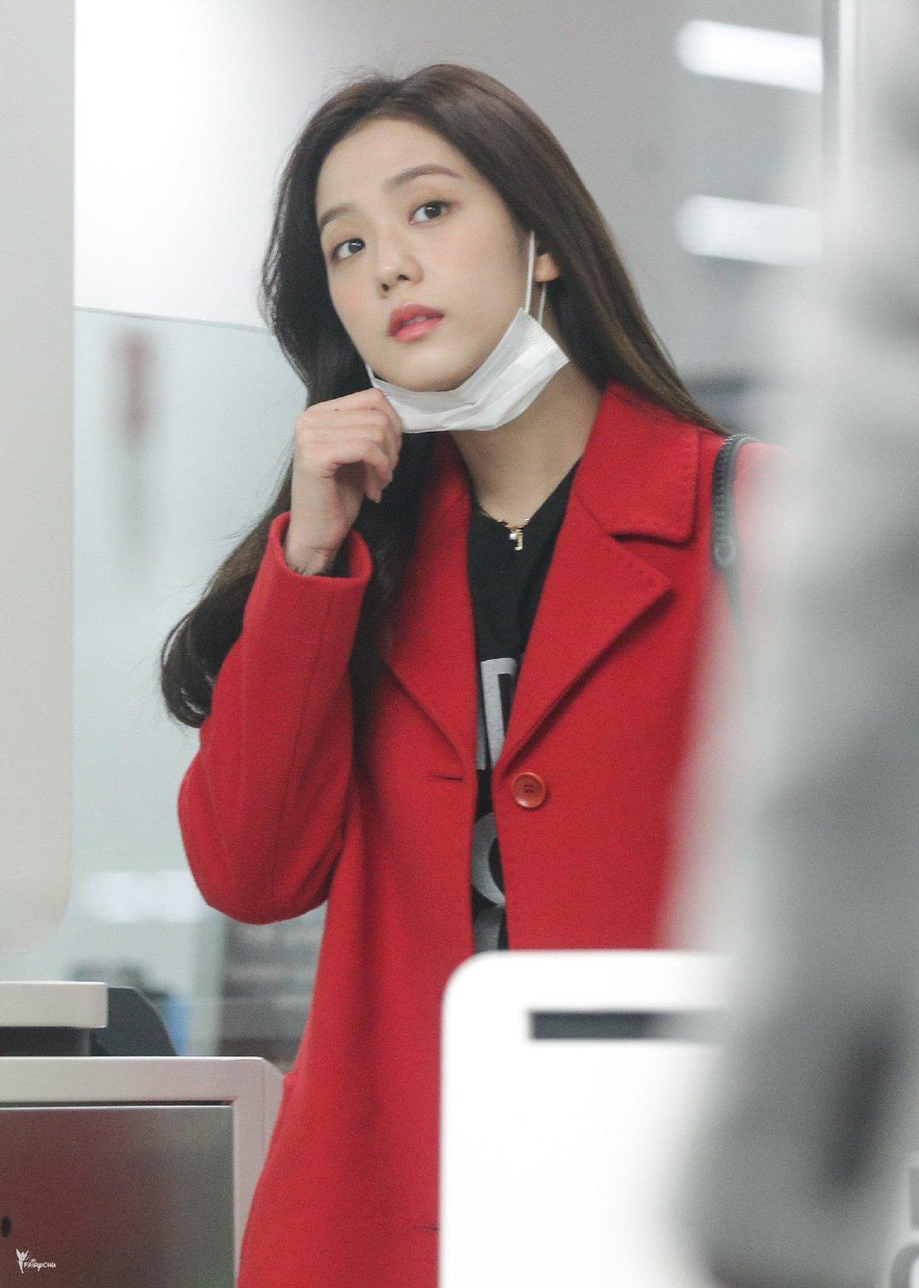WRONG: (313, 151, 543, 405)
